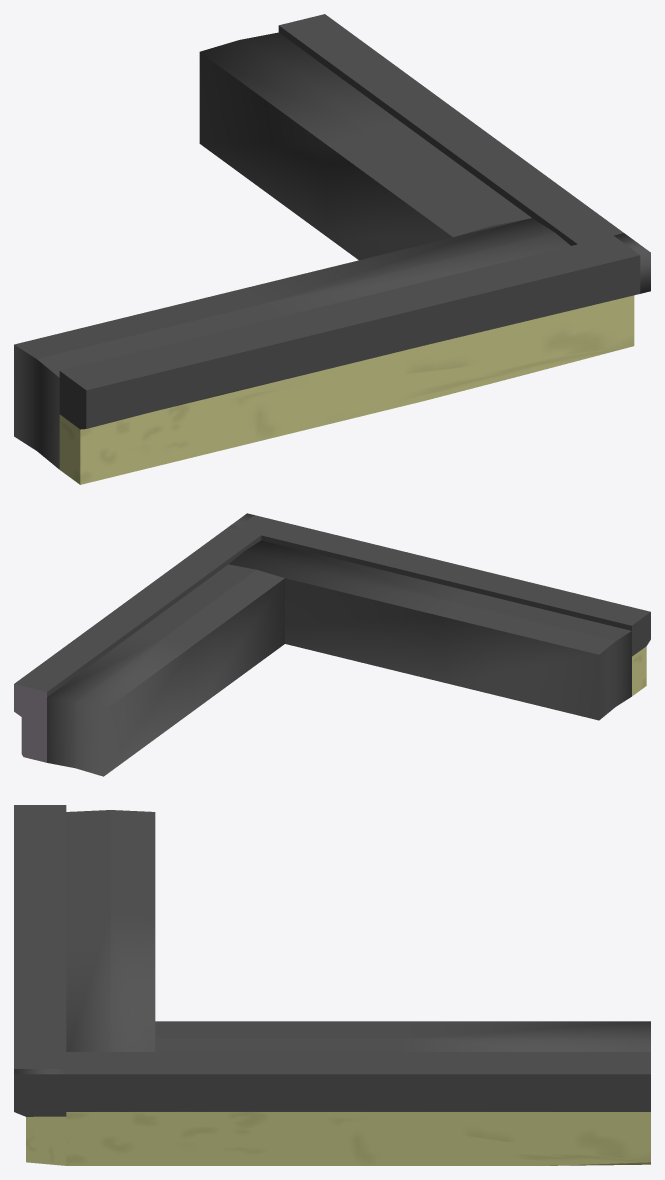
The model's file is Roof_SideWall_Corner_01.fbx.
3 renders of one model, top to bottom at view 1: azimuth 30°, elevation 25°; view 2: azimuth 150°, elevation 25°; view 3: azimuth 270°, elevation 25°, orthographic. The views are drawn at different scales.
Visible parts, largest first — view 1: SM_Bld_Wall_Trim_09.003; view 2: SM_Bld_Wall_Trim_09.003; view 3: SM_Bld_Wall_Trim_09.003.
Part boxes in pixels (box(x1,y1,x2,y2)): SM_Bld_Wall_Trim_09.003: box(14, 14, 650, 484); SM_Bld_Wall_Trim_09.003: box(14, 513, 650, 776); SM_Bld_Wall_Trim_09.003: box(14, 805, 650, 1165).
Bounding box in the file's own units: 161 × 26.95 × 161.
